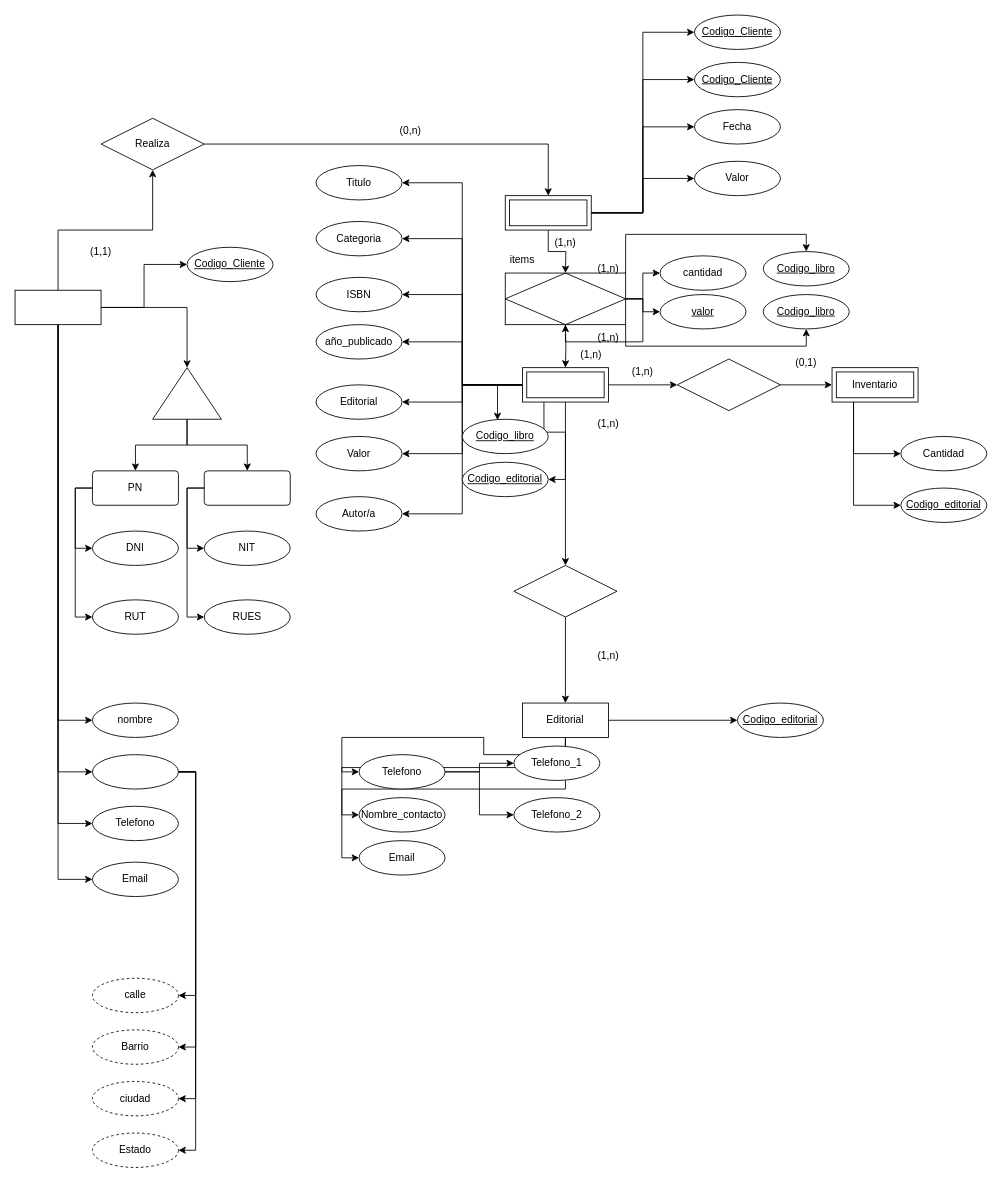
Some shapes in this 1002 by 1183 pixel diagram are drawn without their labels. Here are the shapes that lost their labels. From the top down, the centre of each, then its label:
At (x=547, y=212): "Pedido".
At (x=57, y=307): "Cliente".
At (x=565, y=298): "contiene".
At (x=186, y=393): "ID".
At (x=565, y=384): "Libro".
At (x=728, y=384): "existre".
At (x=246, y=487): "PJ".
At (x=565, y=591): "pertenece".
At (x=135, y=771): "direccion".
